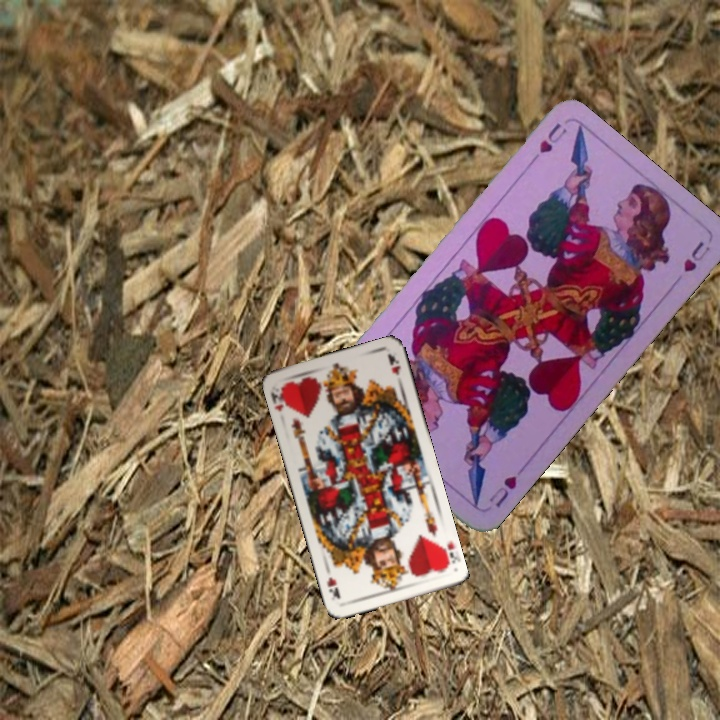HK: (435, 537, 461, 571), (267, 382, 292, 414)
HU: (525, 118, 570, 168), (485, 471, 520, 511)
